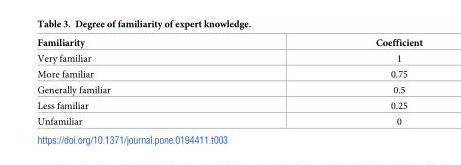table: (36, 37, 421, 126)
table column: (36, 37, 242, 126), (242, 37, 421, 126)
table column header: (36, 37, 421, 50)
table row: (36, 50, 421, 66), (36, 81, 421, 97), (36, 97, 421, 113), (36, 66, 421, 81), (36, 37, 421, 50), (36, 113, 421, 126)
